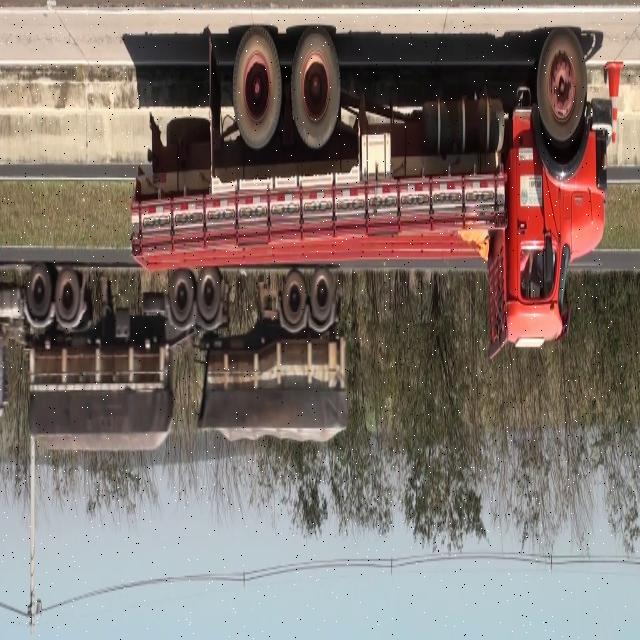-axle: (289, 27, 342, 148), (537, 30, 587, 140), (234, 32, 280, 150)
